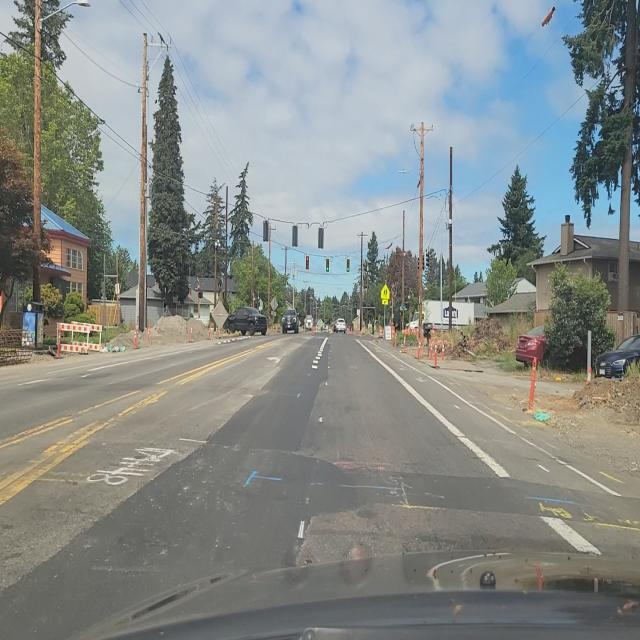car: (516, 324, 590, 372), (593, 332, 640, 379), (226, 307, 268, 336), (282, 311, 300, 335), (334, 318, 346, 334), (304, 315, 314, 331)
crosswalk-sign: (381, 285, 390, 304)
delineator: (528, 356, 537, 412), (56, 327, 61, 358), (433, 339, 438, 368), (416, 336, 422, 359), (402, 331, 408, 354), (133, 324, 138, 350), (441, 338, 445, 360), (429, 338, 433, 360), (394, 327, 398, 347), (207, 324, 212, 339), (146, 324, 150, 342), (190, 324, 193, 342), (217, 325, 220, 339)
